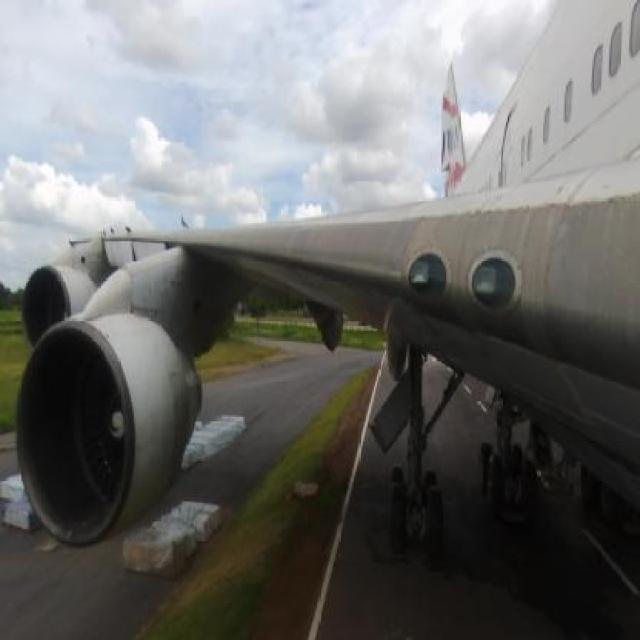Scartch: (276, 263, 392, 319)
